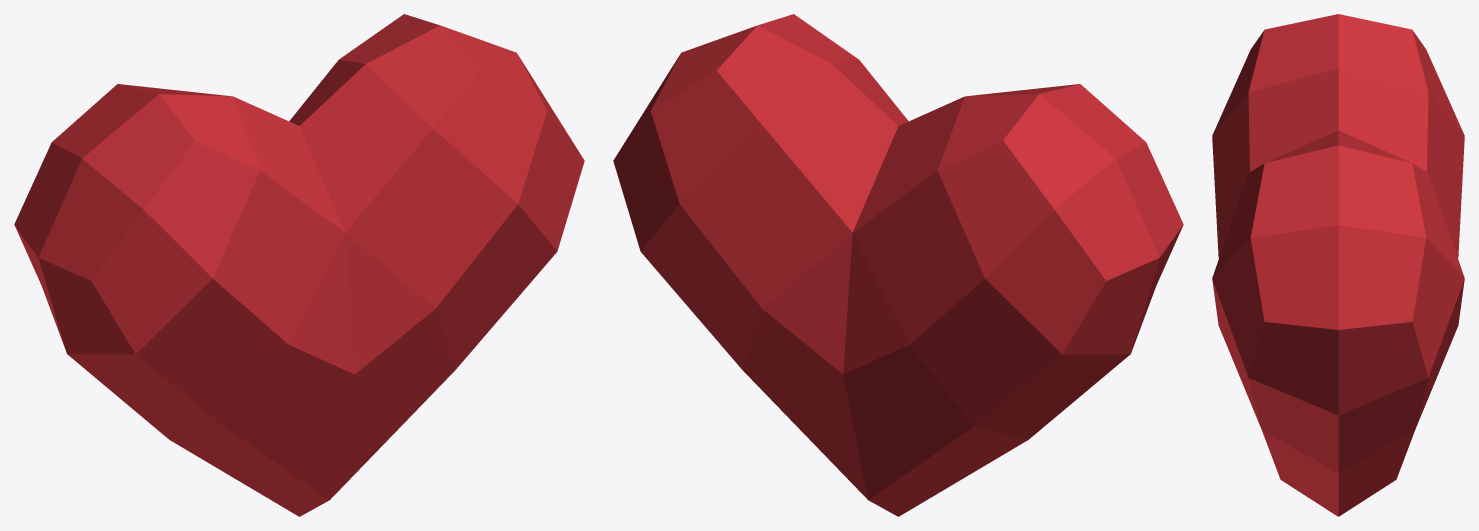
File: heart.glb
3 renders of one model, left to right at view 1: azimuth 30°, elevation 25°; view 2: azimuth 150°, elevation 25°; view 3: azimuth 270°, elevation 25°, orthographic. The views are drawn at different scales.
Parts seen in each view (by area): view 1: heart; view 2: heart; view 3: heart.
Boxes of the visible parts, x1,y1,x2,y2 form: heart: [14, 14, 584, 516]; heart: [613, 14, 1183, 516]; heart: [1212, 14, 1464, 516].
Size of the model in its own units: 0.4527 by 0.3787 by 0.1983.
Materials: 1 (1 with a texture image).
